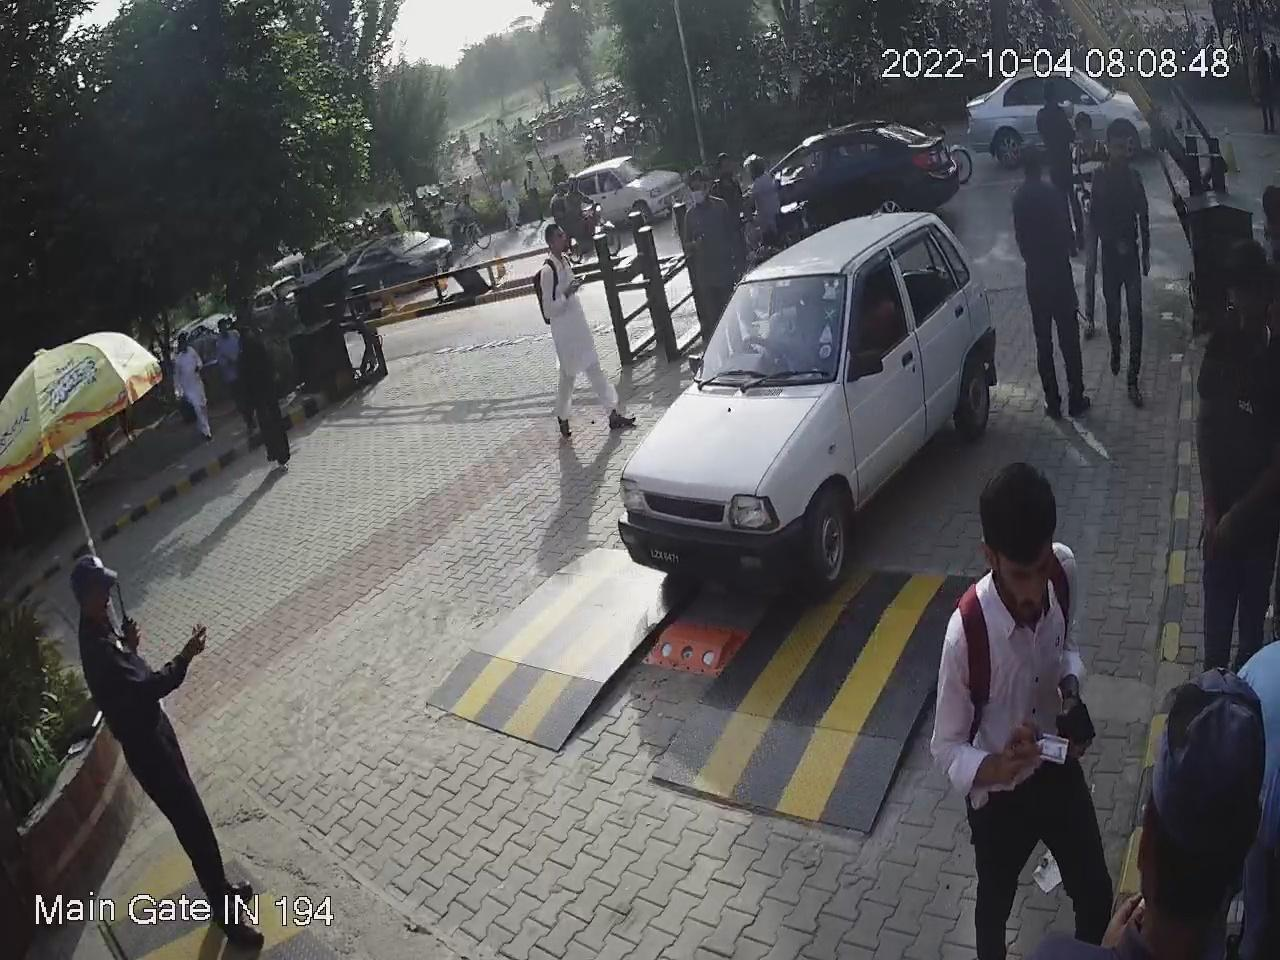windshield: (688, 262, 848, 397)
